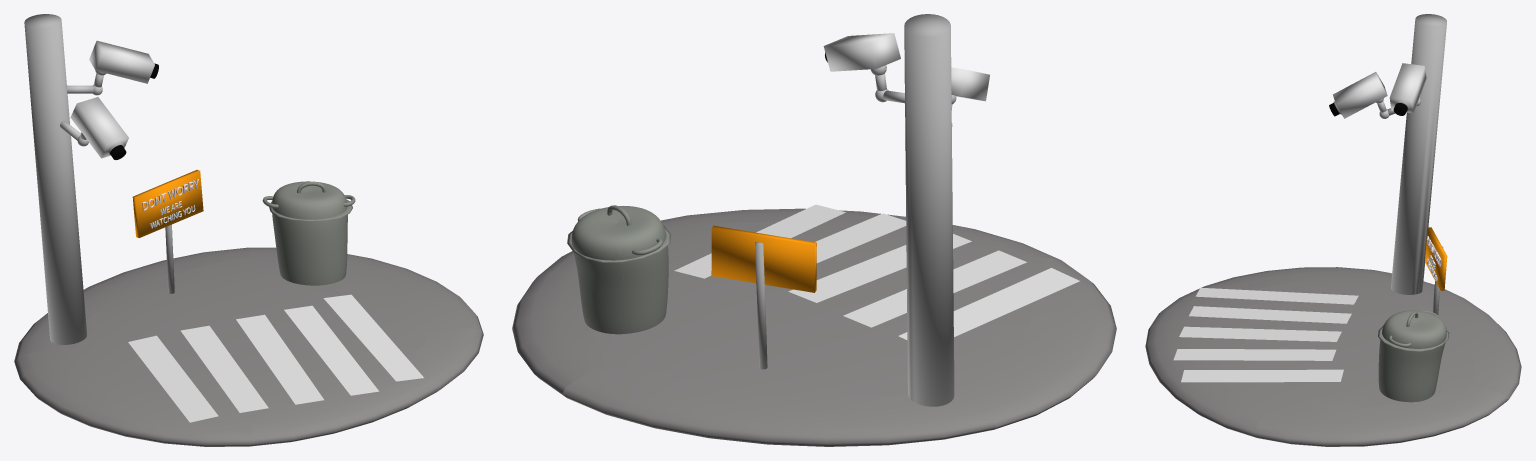
Rendered from wearewatching.glb.
3 views of the same model, side by side, from view 1: azimuth 30°, elevation 25°; view 2: azimuth 150°, elevation 25°; view 3: azimuth 270°, elevation 25° (orthographic). The views are drawn at different scales.
Parts seen in each view (by area): view 1: wearewatching; view 2: wearewatching; view 3: wearewatching.
Part boxes in pixels (left/top/right/bottom): wearewatching: left=14, top=14, right=483, bottom=446; wearewatching: left=512, top=14, right=1116, bottom=446; wearewatching: left=1145, top=14, right=1521, bottom=446.
Bounding box in the file's own units: 247 × 192 × 223.
